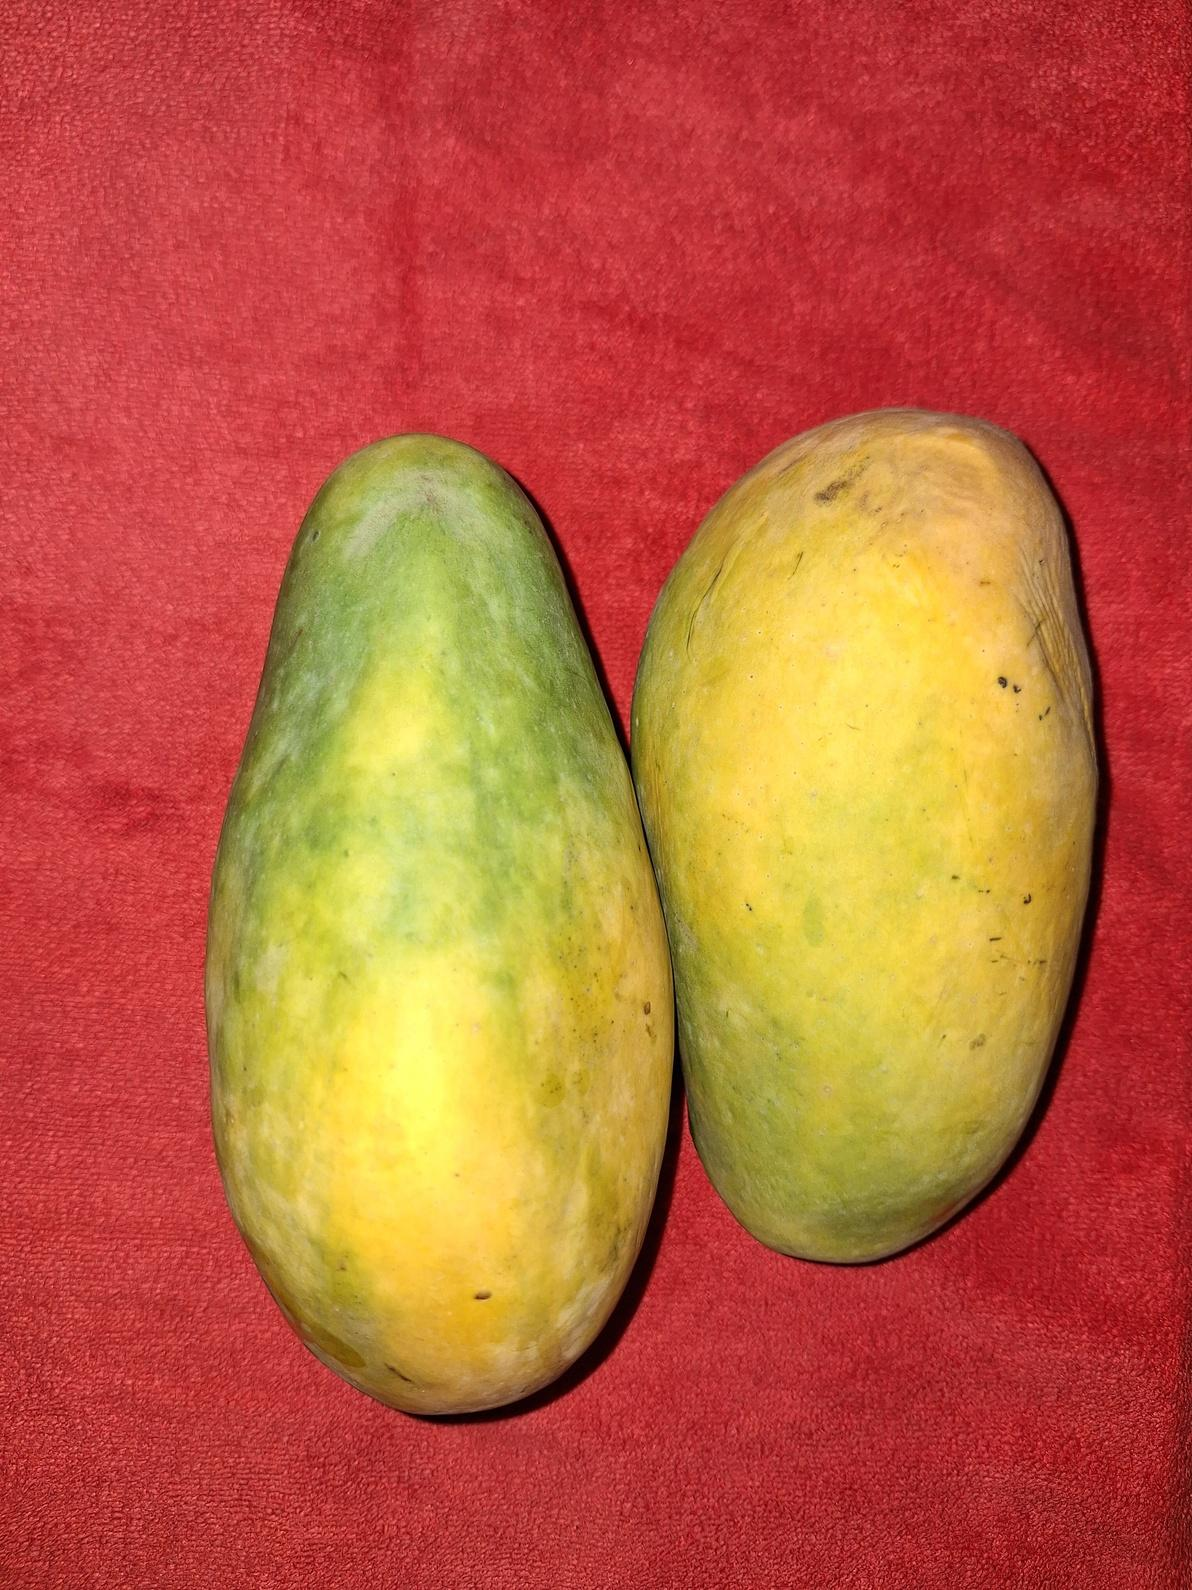mango: (203, 429, 677, 1417), (629, 404, 1099, 1264)
